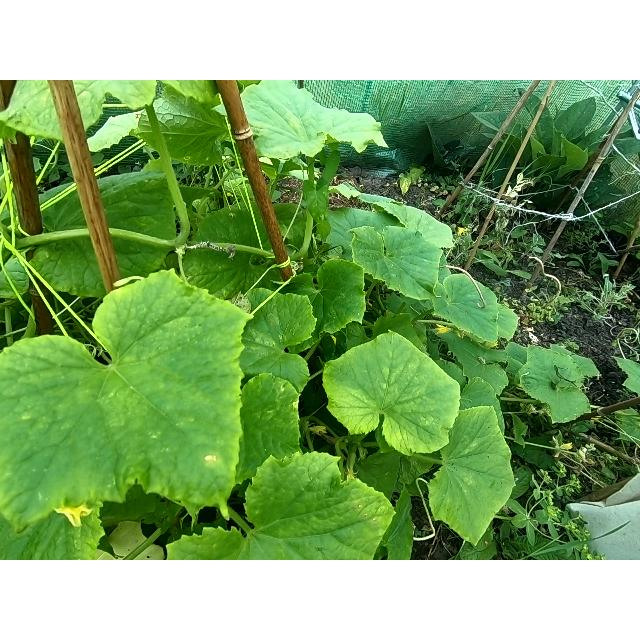Flowers: (51, 498, 94, 530), (306, 422, 330, 440), (432, 322, 452, 336), (456, 225, 468, 239), (560, 440, 574, 452)
